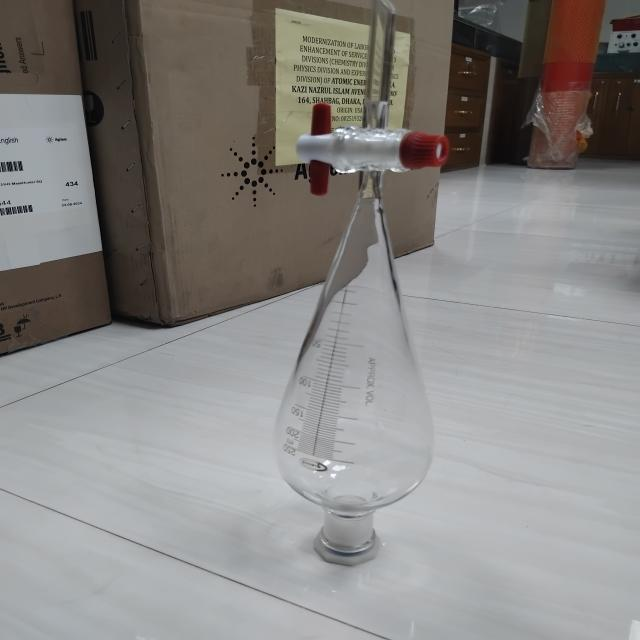Separating_Funnel: (256, 0, 482, 582)
